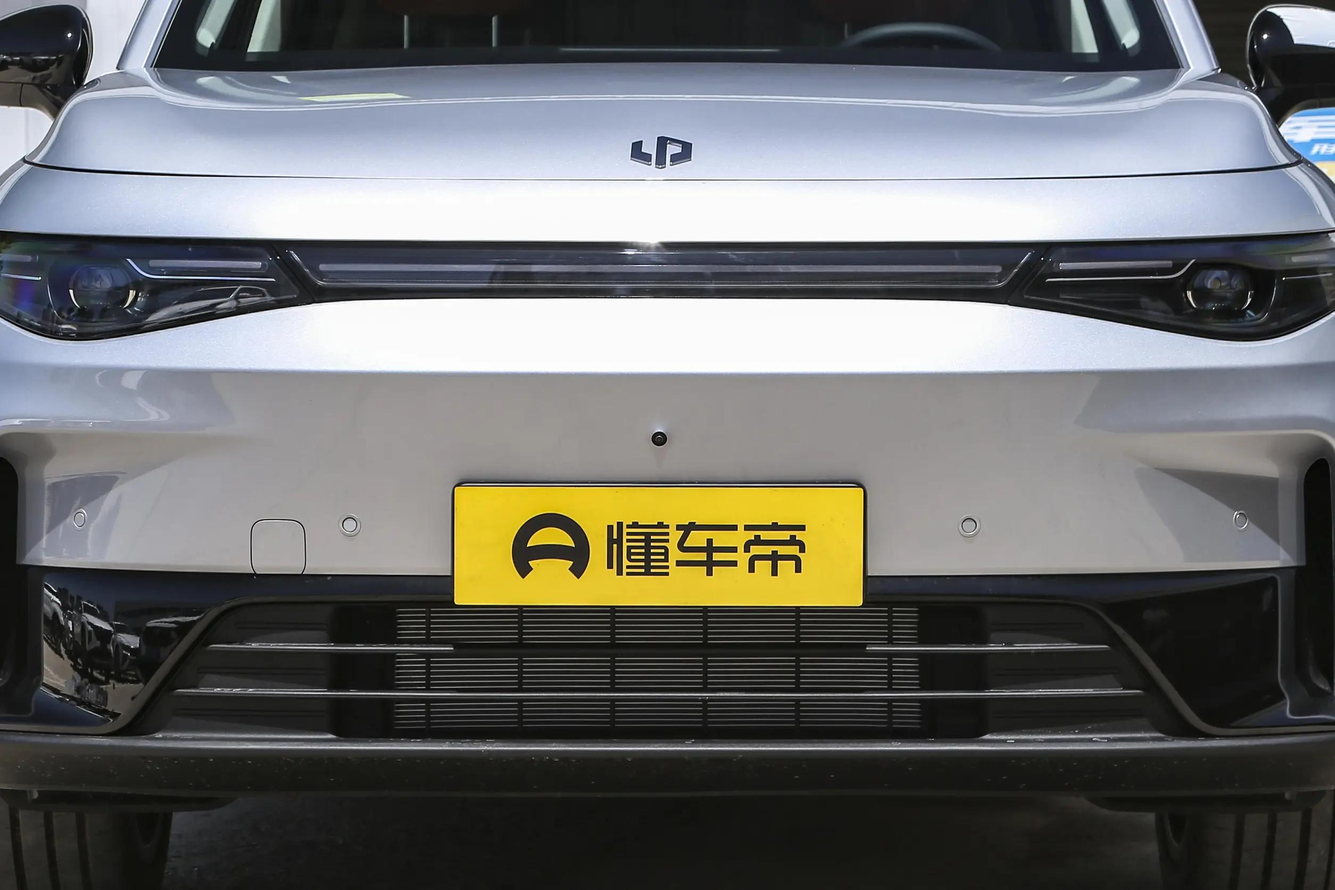LEAPMOTOR: (630, 133, 692, 169)
